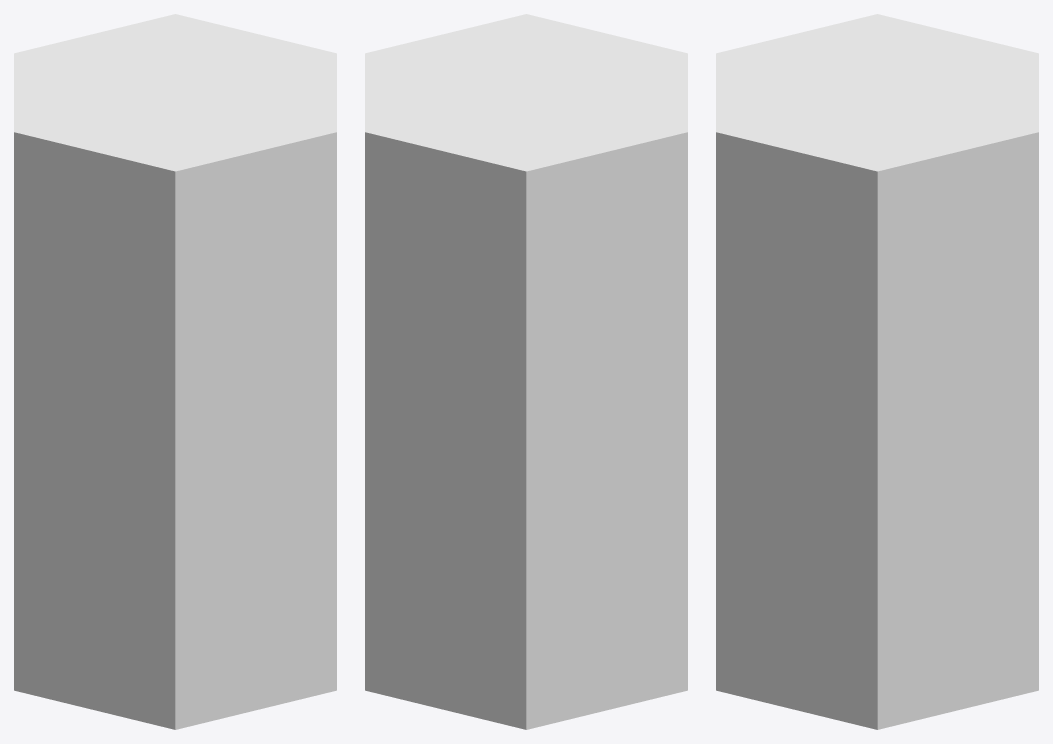
File: BarrelCollider.obj
3 views of the same model, side by side, from view 1: azimuth 30°, elevation 25°; view 2: azimuth 150°, elevation 25°; view 3: azimuth 270°, elevation 25° (orthographic).
Visible parts, largest first — view 1: Barrel:collider; view 2: Barrel:collider; view 3: Barrel:collider.
Boxes of the visible parts, x1=… form: Barrel:collider: x1=14, y1=14, x2=336, y2=729; Barrel:collider: x1=365, y1=14, x2=687, y2=729; Barrel:collider: x1=716, y1=14, x2=1038, y2=729.
Size of the model in its own units: 59.64 by 98.57 by 51.65.
